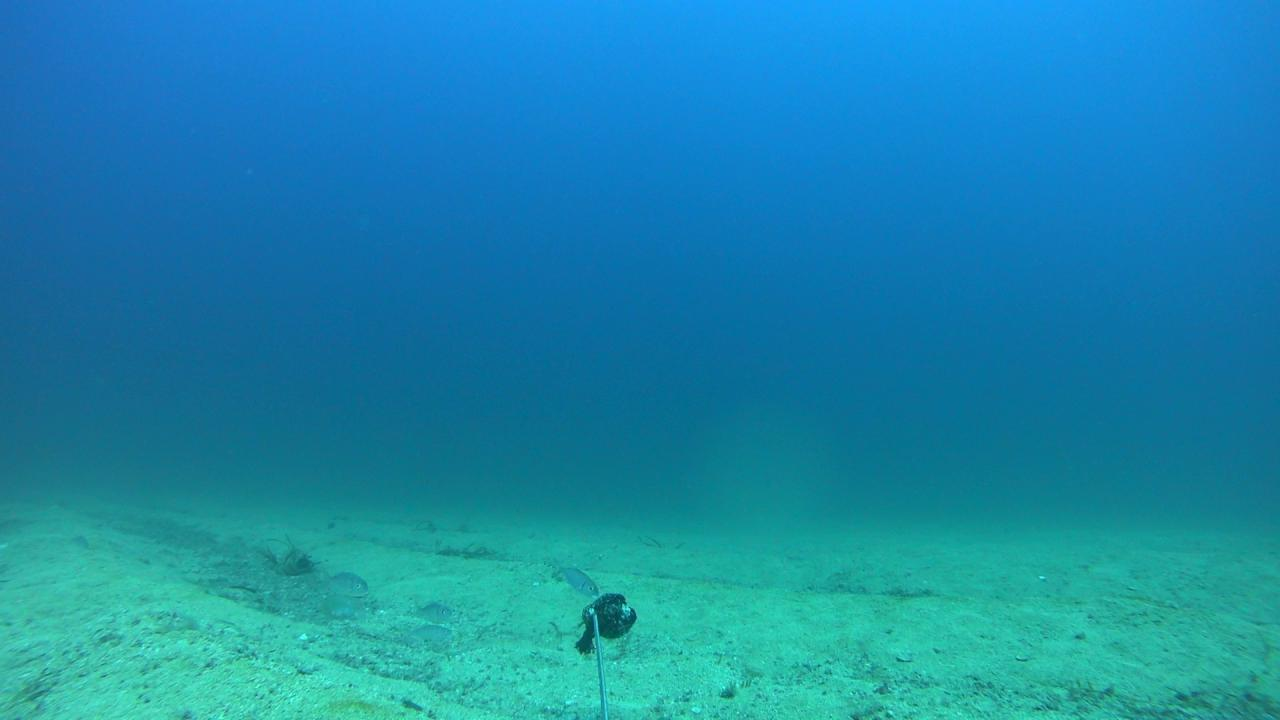pagellus: (551, 555, 597, 597), (320, 570, 368, 596), (411, 600, 448, 624), (403, 624, 449, 642)
